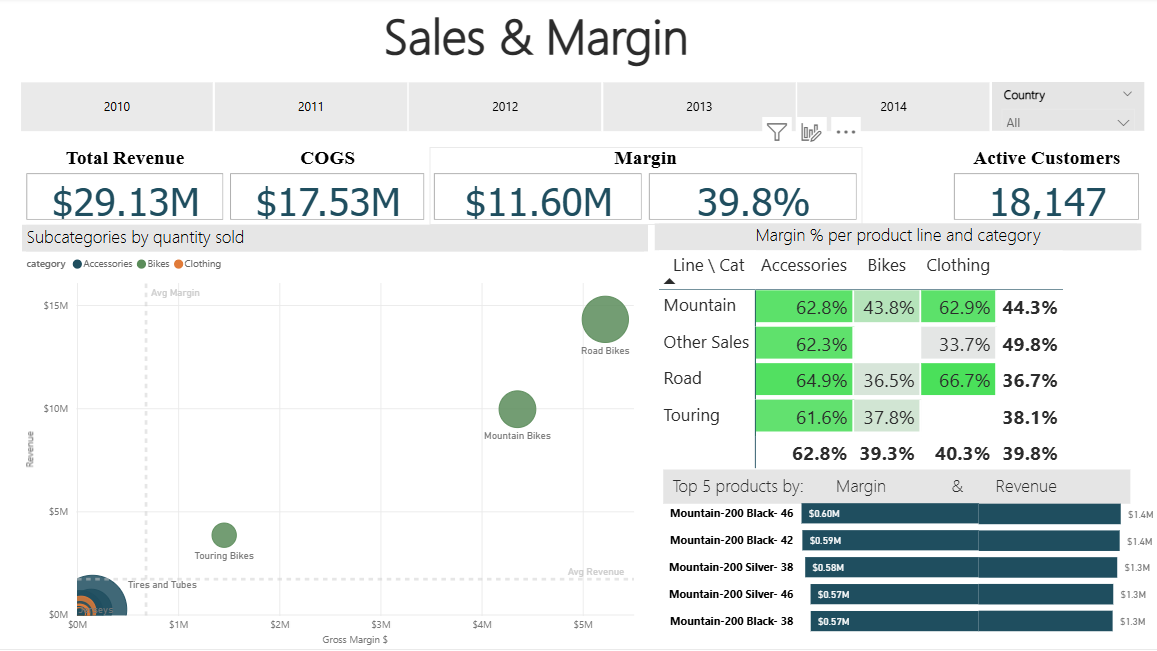

The page's visual inventory and layout, read from the dashboard file:
{"tool":"powerbi","page":{"name":"Sales & Margin","canvas":[1280,720],"ordinal":0},"visuals":[{"type":"group","id":"g1","title":"Group 1","box":[0,86.2,1259.1,68],"z":0,"group":"g4"},{"type":"cardVisual","title":"Total Revenue","fields":{"Data":["_Measures.Revenue"]},"box":[27.3,164.2,226.1,85.5],"z":0,"group":"g2"},{"type":"pivotTable","title":"Margin % per product line and category","fields":{"Rows":["dim_products.product_line"],"Columns":["dim_products.category"],"Values":["_Measures.Gross Margin %"]},"box":[722.5,248.4,534.7,282],"z":0,"group":"g5"},{"type":"group","id":"g2","title":"Group 2","box":[27.3,164.2,1231.8,85.5],"z":1000,"group":"g4"},{"type":"cardVisual","title":"COGS","fields":{"Data":["_Measures.Cost of Goods Sold"]},"box":[251.2,164.2,223.9,85.5],"z":1000,"group":"g2"},{"type":"textbox","box":[165.5,0,851.8,86],"z":2000,"group":"g4"},{"type":"cardVisual","title":"Margin","fields":{"Data":["_Measures.Gross Margin $","_Measures.Gross Margin %"]},"box":[475,164.2,474.7,85.5],"z":2000,"group":"g2"},{"type":"cardVisual","title":"Active Customers","fields":{"Data":["_Measures.Active Customers"]},"box":[1045.4,164.2,213.7,85.5],"z":3000,"group":"g2"},{"type":"scatterChart","title":"Subcategories by quantity sold","fields":{"X":["_Measures.Gross Margin $"],"Y":["_Measures.Revenue"],"Category":["dim_products.subcategory"],"Size":["_Measures.Quantity Sold"],"Series":["dim_products.category"]},"box":[27.3,249.7,687.3,466.4],"z":3000,"group":"g4"},{"type":"textbox","box":[731.8,518.4,512.7,38],"z":3000,"group":"g3"},{"type":"slicer","fields":{"Values":["Date.Year"]},"box":[0,86.2,1113.9,68],"z":4000,"group":"g1"},{"type":"group","id":"g3","title":"Group 5","box":[722.5,248.4,557.9,466.3],"z":4000,"group":"g4"},{"type":"clusteredBarChart","fields":{"Category":["dim_products.product_name"],"Series":["dim_products.product_line"],"Y":["_Measures.Gross Margin $"]},"box":[731.8,531.6,351.5,183.1],"z":4000,"group":"g6"},{"type":"group","id":"g4","title":"Group 6","box":[0,0,1280.3,716.1],"z":4001},{"type":"slicer","fields":{"Values":["dim_customers.country"]},"box":[1092.3,93.2,166.8,54],"z":5000,"group":"g1"},{"type":"group","id":"g5","title":"Group 4","box":[722.5,248.4,557.9,466.3],"z":5000,"group":"g3"},{"type":"group","id":"g6","title":"Group 3","box":[731.8,531.6,548.5,183.1],"z":5000,"group":"g5"},{"type":"clusteredBarChart","fields":{"Category":["dim_products.product_name"],"Series":["dim_products.product_line"],"Y":["_Measures.Revenue"]},"box":[1073.1,543.4,207.2,159],"z":5000,"group":"g6"}]}

Visuals, with their boxes in screenshot pixels (x1, y1, x2, y2), scaled from the page's 1280x720 canvas onto the 1157x651 screenshot:
"Group 1" group: left=0, top=78, right=1138, bottom=139
"Total Revenue" cardVisual: left=25, top=148, right=229, bottom=226
"Margin % per product line and category" pivotTable: left=653, top=225, right=1136, bottom=480
"Group 2" group: left=25, top=148, right=1138, bottom=226
"COGS" cardVisual: left=227, top=148, right=429, bottom=226
textbox: left=150, top=0, right=920, bottom=78
"Margin" cardVisual: left=429, top=148, right=858, bottom=226
"Active Customers" cardVisual: left=945, top=148, right=1138, bottom=226
"Subcategories by quantity sold" scatterChart: left=25, top=226, right=646, bottom=647
textbox: left=661, top=469, right=1125, bottom=503
slicer - Date.Year: left=0, top=78, right=1007, bottom=139
"Group 5" group: left=653, top=225, right=1156, bottom=646
clusteredBarChart - dim_products.product_name x dim_products.product_line: left=661, top=481, right=979, bottom=646
"Group 6" group: left=0, top=0, right=1156, bottom=647
slicer - dim_customers.country: left=987, top=84, right=1138, bottom=133
"Group 4" group: left=653, top=225, right=1156, bottom=646
"Group 3" group: left=661, top=481, right=1156, bottom=646
clusteredBarChart - dim_products.product_name x dim_products.product_line: left=970, top=491, right=1156, bottom=635
